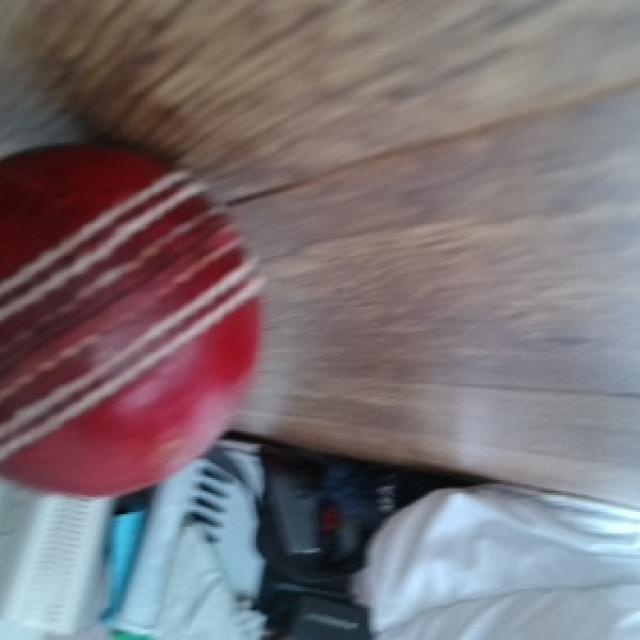ball: (0, 145, 267, 506)
